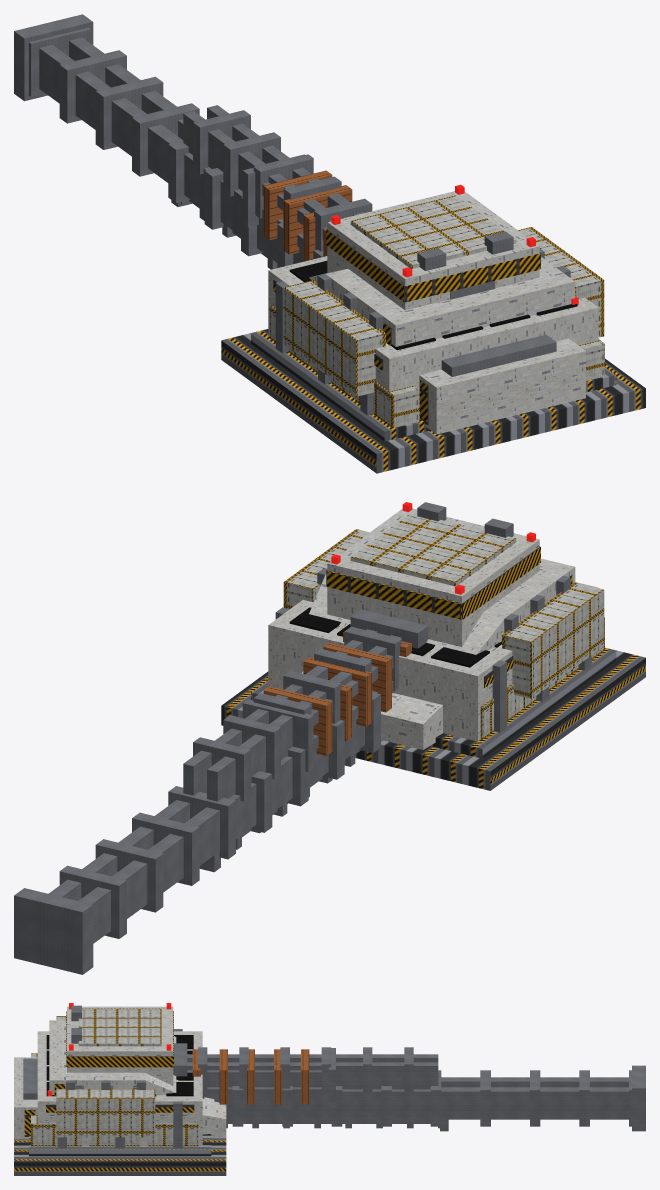
File: torretas.gltf
3 views of the same model, one above another, from view 1: azimuth 30°, elevation 25°; view 2: azimuth 150°, elevation 25°; view 3: azimuth 270°, elevation 25° (orthographic). The views are drawn at different scales.
Visible parts, largest first — view 1: espinal_pesada_canones, coilgun_pesada_zocalo, railgun360_pesada_condensadores, espinal_pesada_cuerpo, railgun360_pesada_canones, railgun360_pesada_cuerpo, misiles_pesada_cuerpo, nuclear_pesada_cuerpo, nuclear_pesada_compuerta, nuclear_pesada_aviso, coilgun_pesada_bobinas, misiles_pesada_estructura (+5 smaller); view 2: espinal_pesada_canones, coilgun_pesada_zocalo, railgun360_pesada_canones, railgun360_pesada_condensadores, misiles_pesada_cuerpo, nuclear_pesada_cuerpo, nuclear_pesada_compuerta, coilgun_pesada_bobinas, railgun360_pesada_cuerpo, nuclear_pesada_aviso, espinal_pesada_cuerpo, nuclear_pesada_estructura (+6 smaller); view 3: espinal_pesada_canones, railgun360_pesada_canones, coilgun_pesada_zocalo, railgun360_pesada_condensadores, nuclear_pesada_compuerta, nuclear_pesada_cuerpo, misiles_pesada_cuerpo, railgun360_pesada_cuerpo, espinal_pesada_condensadores, coilgun_pesada_bobinas, espinal_pesada_cuerpo, coilgun_pesada_canones (+7 smaller).
Part boxes in pixels (x1,y1,x2,y2): espinal_pesada_canones: (14, 14, 323, 267); coilgun_pesada_zocalo: (221, 329, 645, 473); railgun360_pesada_condensadores: (283, 227, 604, 396); espinal_pesada_cuerpo: (419, 338, 585, 434); railgun360_pesada_canones: (183, 105, 371, 251); railgun360_pesada_cuerpo: (309, 257, 575, 346); misiles_pesada_cuerpo: (268, 256, 598, 398); nuclear_pesada_cuerpo: (327, 191, 539, 310); nuclear_pesada_compuerta: (350, 195, 516, 268); nuclear_pesada_aviso: (326, 229, 540, 302); coilgun_pesada_bobinas: (263, 170, 372, 261); misiles_pesada_estructura: (275, 281, 556, 415); espinal_pesada_canones: (14, 692, 380, 974); coilgun_pesada_zocalo: (221, 647, 645, 790); railgun360_pesada_canones: (183, 626, 401, 801); railgun360_pesada_condensadores: (283, 529, 604, 698); misiles_pesada_cuerpo: (268, 582, 598, 741); nuclear_pesada_cuerpo: (327, 508, 539, 646); nuclear_pesada_compuerta: (350, 512, 516, 586); coilgun_pesada_bobinas: (263, 632, 411, 755); railgun360_pesada_cuerpo: (309, 558, 575, 654); nuclear_pesada_aviso: (326, 546, 540, 619); espinal_pesada_cuerpo: (301, 671, 442, 749); nuclear_pesada_estructura: (350, 502, 513, 648); espinal_pesada_canones: (214, 1065, 645, 1131); railgun360_pesada_canones: (187, 1047, 438, 1096); coilgun_pesada_zocalo: (14, 1134, 226, 1175); railgun360_pesada_condensadores: (56, 1016, 155, 1137); nuclear_pesada_compuerta: (78, 1008, 161, 1046); nuclear_pesada_cuerpo: (67, 1006, 173, 1085); misiles_pesada_cuerpo: (37, 1031, 202, 1145); railgun360_pesada_cuerpo: (49, 1020, 178, 1095); espinal_pesada_condensadores: (31, 1053, 198, 1146); coilgun_pesada_bobinas: (192, 1049, 309, 1104); espinal_pesada_cuerpo: (14, 1057, 226, 1139); coilgun_pesada_canones: (187, 1048, 335, 1105).
Size of the model in its own units: 57.6 by 33.16 by 172.
Materials: 8 (8 with a texture image).
